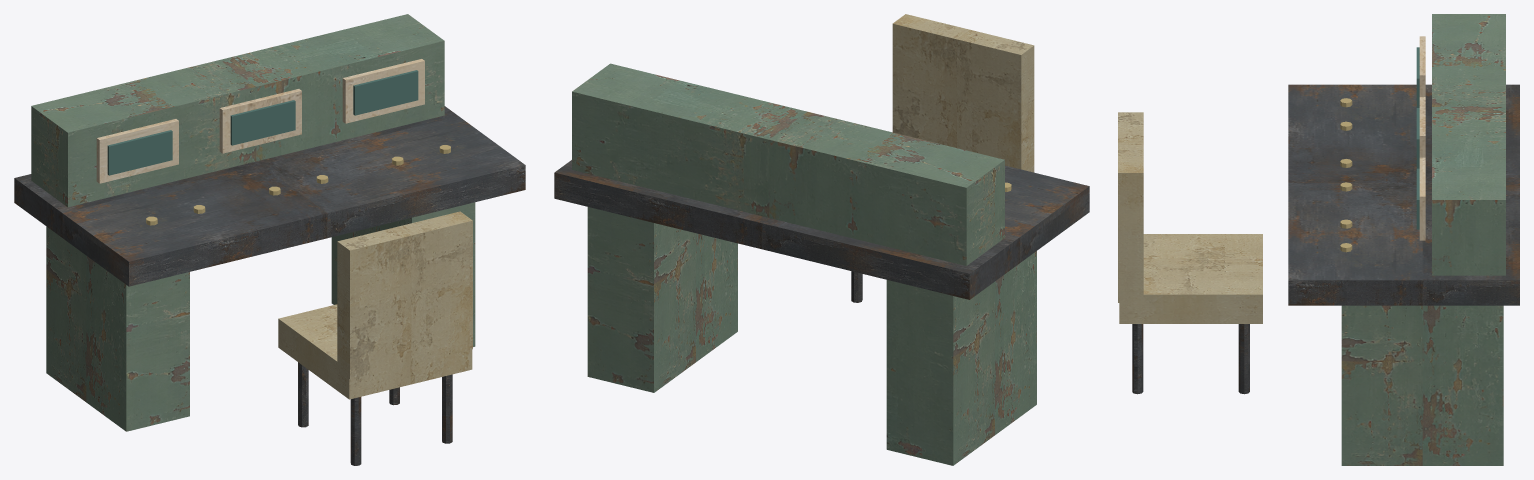
File: silo-control-console.gltf
3 renders of one model, left to right at view 1: azimuth 30°, elevation 25°; view 2: azimuth 150°, elevation 25°; view 3: azimuth 270°, elevation 25°, orthographic. The views are drawn at different scales.
Parts seen in each view (by area): view 1: component-furniture-22-seafoam-0, component-furniture-22-steel-1, component-furniture-22-linen-5, component-furniture-22-glass-3, component-furniture-22-ivory-2, component-furniture-22-brass-4; view 2: component-furniture-22-seafoam-0, component-furniture-22-steel-1, component-furniture-22-linen-5; view 3: component-furniture-22-seafoam-0, component-furniture-22-steel-1, component-furniture-22-linen-5, component-furniture-22-ivory-2, component-furniture-22-glass-3, component-furniture-22-brass-4.
Part boxes in pixels (x1,y1,x2,y2): component-furniture-22-seafoam-0: [31, 14, 475, 431]; component-furniture-22-steel-1: [14, 106, 525, 465]; component-furniture-22-linen-5: [278, 211, 472, 399]; component-furniture-22-glass-3: [107, 70, 418, 175]; component-furniture-22-ivory-2: [96, 59, 424, 183]; component-furniture-22-brass-4: [146, 145, 450, 225]; component-furniture-22-seafoam-0: [572, 63, 1036, 465]; component-furniture-22-steel-1: [554, 160, 1089, 302]; component-furniture-22-linen-5: [892, 14, 1034, 172]; component-furniture-22-seafoam-0: [1341, 14, 1505, 465]; component-furniture-22-steel-1: [1132, 84, 1519, 394]; component-furniture-22-linen-5: [1118, 112, 1262, 323]; component-furniture-22-ivory-2: [1419, 36, 1425, 240]; component-furniture-22-glass-3: [1416, 47, 1419, 229]; component-furniture-22-brass-4: [1340, 98, 1352, 252].
Bounding box in the file's own units: 2 × 1.3 × 1.74.
6 materials, 4 textured.
